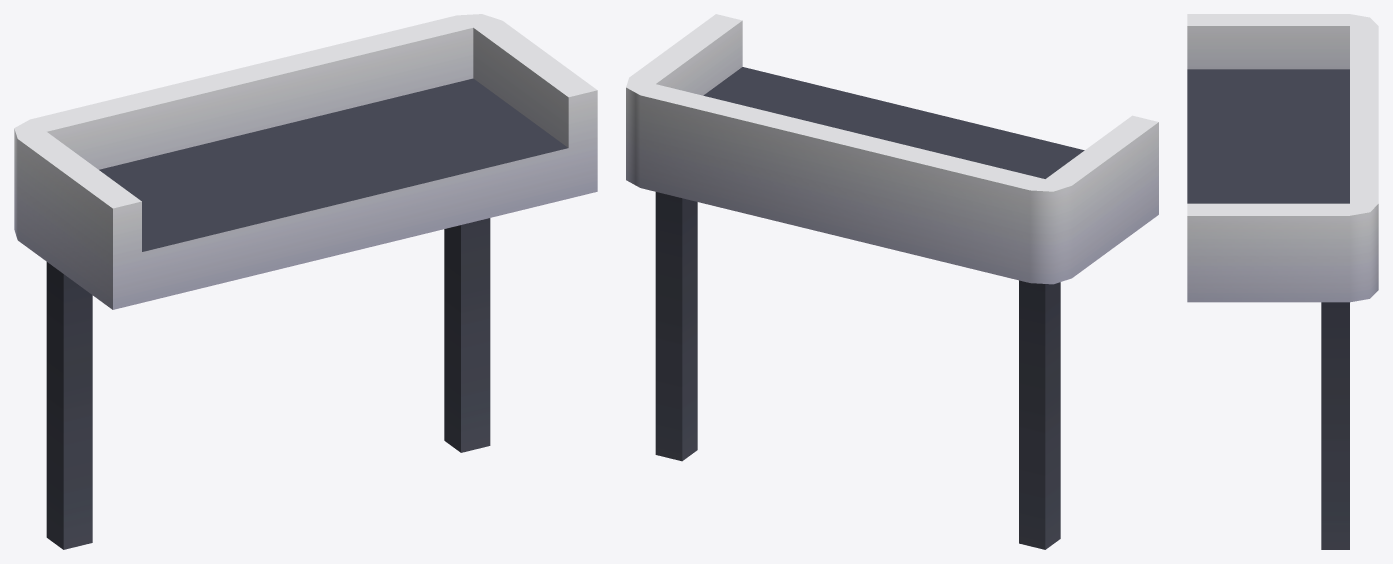
Rendered from detail-overhang.glb.
The picture shows the model from 3 angles, left to right: view 1: azimuth 30°, elevation 25°; view 2: azimuth 150°, elevation 25°; view 3: azimuth 270°, elevation 25°; orthographic projection. The views are drawn at different scales.
Visible parts, largest first — view 1: detail-overhang; view 2: detail-overhang; view 3: detail-overhang.
Part boxes in pixels (x1,y1,x2,y2): detail-overhang: (14, 14, 597, 549); detail-overhang: (626, 14, 1158, 549); detail-overhang: (1187, 14, 1378, 549).
Size of the model in its own units: 0.5 by 0.4 by 0.2.
1 material, 1 textured.
